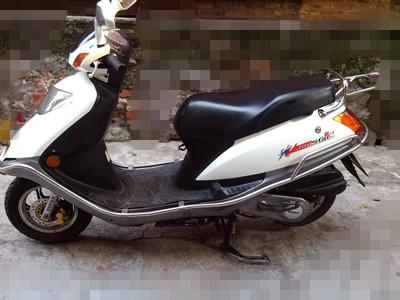motor: (8, 25, 371, 258)
